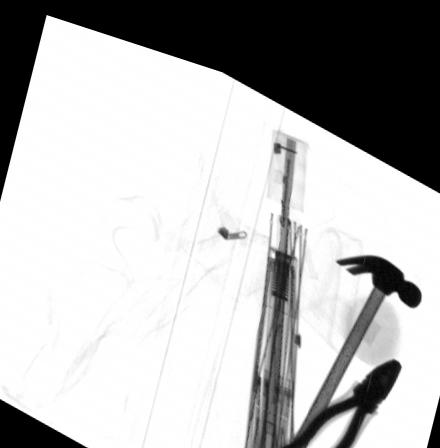Hammer: (291, 228, 424, 434)
Pliers: (275, 331, 405, 448)
